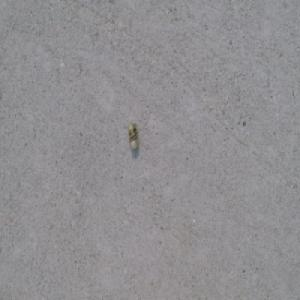BoltNutSet: (127, 122, 139, 149)
